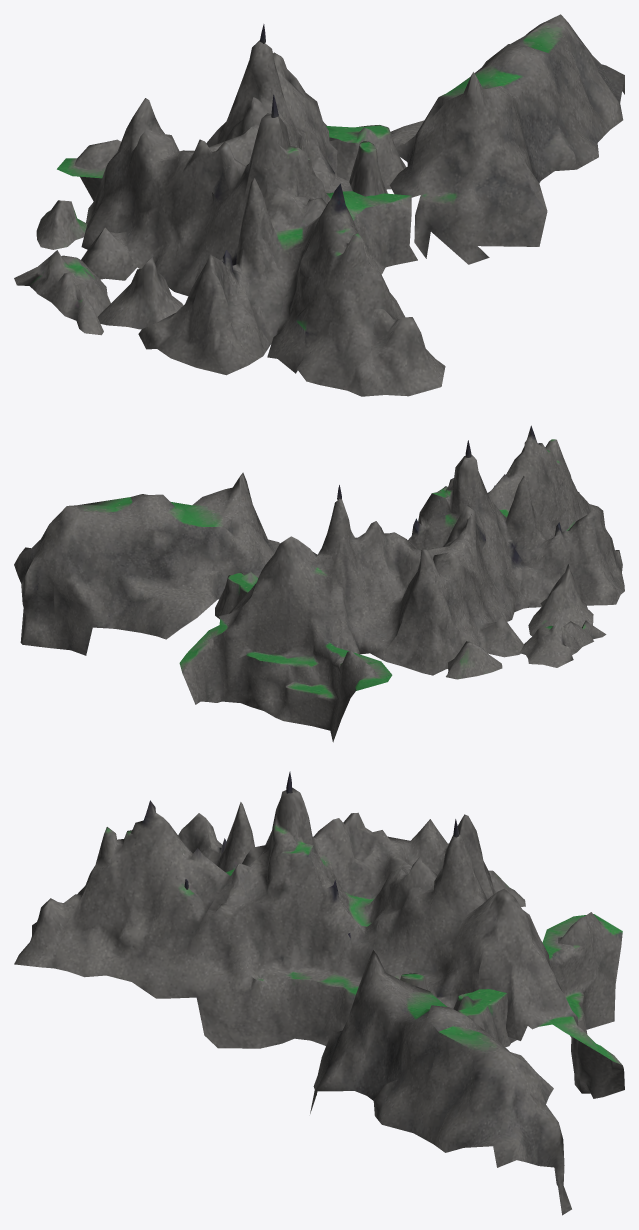
Rendered from clod_terrain_07_07_clod000.gltf.
3 renders of one model, top to bottom at view 1: azimuth 30°, elevation 25°; view 2: azimuth 150°, elevation 25°; view 3: azimuth 270°, elevation 25°, orthographic. The views are drawn at different scales.
Visible parts, largest first — view 1: um_clod_terrain_07_07_clod000_0_Shape1:aggregation_mat; view 2: um_clod_terrain_07_07_clod000_0_Shape1:aggregation_mat; view 3: um_clod_terrain_07_07_clod000_0_Shape1:aggregation_mat.
Part boxes in pixels (x1,y1,x2,y2): um_clod_terrain_07_07_clod000_0_Shape1:aggregation_mat: (14, 14, 624, 396); um_clod_terrain_07_07_clod000_0_Shape1:aggregation_mat: (14, 425, 624, 742); um_clod_terrain_07_07_clod000_0_Shape1:aggregation_mat: (14, 771, 624, 1215).
Size of the model in its own units: 538 by 205 by 457.
1 material, 1 textured.
